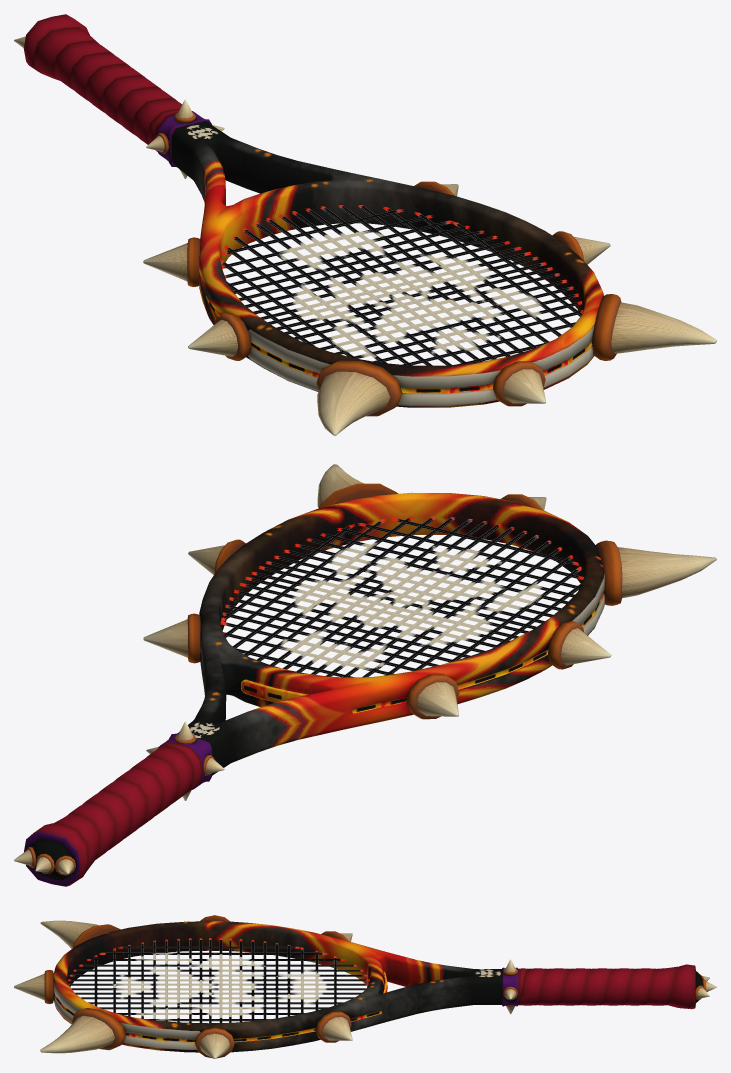
File: RacquetDryBowser.obj
3 renders of one model, top to bottom at view 1: azimuth 30°, elevation 25°; view 2: azimuth 150°, elevation 25°; view 3: azimuth 270°, elevation 25°, orthographic. The views are drawn at different scales.
Parts seen in each view (by area): view 1: TennisRacquet_DryBowser; view 2: TennisRacquet_DryBowser; view 3: TennisRacquet_DryBowser.
Part boxes in pixels (x1,y1,x2,y2): TennisRacquet_DryBowser: (14,14,716,435); TennisRacquet_DryBowser: (14,464,716,886); TennisRacquet_DryBowser: (14,915,716,1058).
Size of the model in its own units: 5.99 by 1.07 by 12.53.
Materials: 2 (2 with a texture image).
